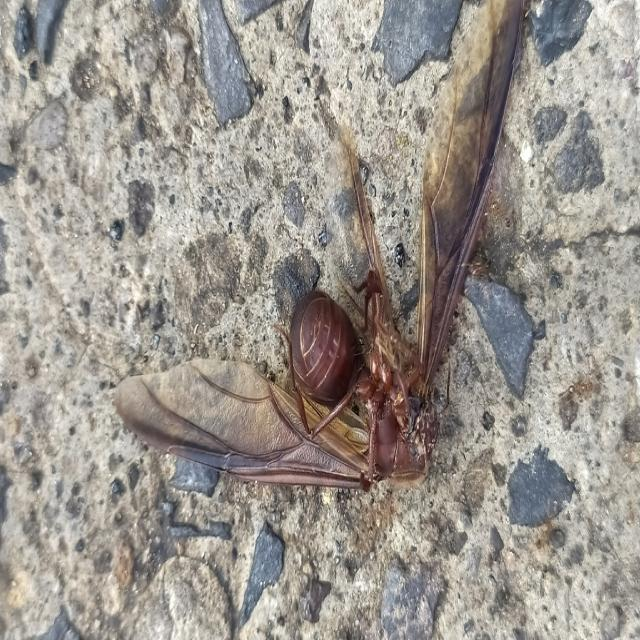Dead-Male-Alate: (100, 0, 522, 496)
